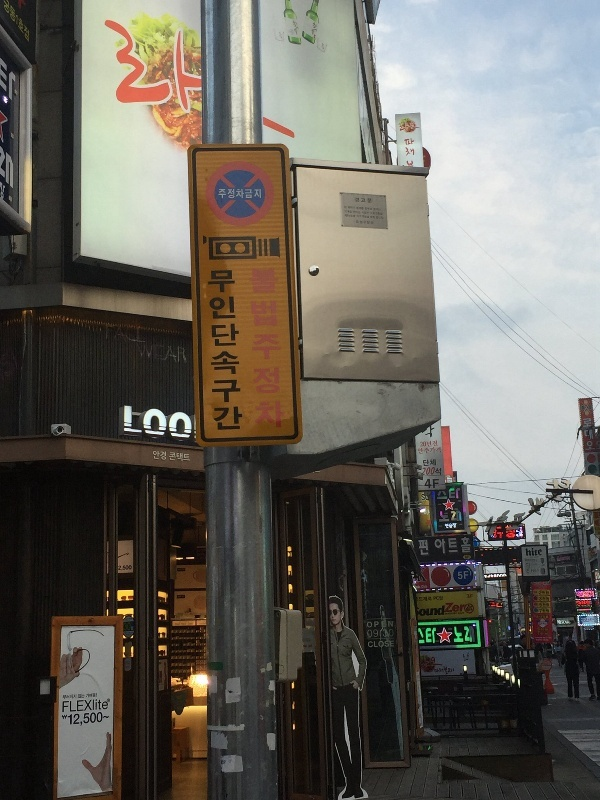text: (257, 263, 272, 437), (209, 267, 224, 439), (225, 267, 240, 439), (273, 263, 287, 437), (113, 19, 128, 115), (129, 19, 144, 115), (145, 19, 160, 115), (161, 19, 176, 115), (177, 19, 192, 115), (250, 263, 256, 437), (193, 19, 203, 115), (104, 19, 112, 115), (241, 267, 245, 439), (1, 147, 16, 190), (177, 405, 193, 441), (3, 61, 16, 104), (17, 4, 30, 46), (129, 405, 144, 441), (145, 405, 160, 441), (161, 405, 176, 441), (129, 322, 145, 350), (113, 322, 128, 350), (117, 405, 128, 441), (145, 341, 160, 365), (161, 341, 176, 365), (433, 536, 448, 557), (449, 536, 464, 557), (1, 181, 16, 201), (418, 536, 432, 557), (417, 627, 432, 645), (177, 341, 188, 365), (404, 137, 416, 159), (65, 711, 80, 728), (81, 711, 96, 728), (10, 4, 16, 46), (65, 699, 80, 714), (81, 699, 96, 714), (225, 187, 240, 201), (241, 187, 256, 201), (353, 206, 368, 220), (369, 206, 384, 220), (3, 1, 16, 17), (97, 711, 109, 728), (105, 322, 112, 350), (136, 341, 144, 365), (465, 626, 476, 643), (449, 509, 462, 523), (401, 121, 416, 133), (449, 486, 461, 501), (449, 602, 465, 613), (207, 267, 208, 439), (454, 626, 464, 643), (177, 451, 191, 463), (97, 699, 108, 714), (437, 486, 448, 501), (417, 605, 432, 616), (293, 21, 304, 35), (369, 640, 384, 650), (65, 692, 80, 701), (81, 692, 96, 701), (369, 629, 384, 638), (433, 605, 445, 616), (439, 509, 448, 523), (465, 536, 471, 557), (529, 548, 543, 557), (434, 667, 448, 676), (417, 595, 432, 603), (369, 621, 384, 629), (418, 447, 432, 455), (344, 206, 352, 220), (313, 22, 320, 38), (539, 591, 544, 613), (545, 591, 550, 613), (420, 440, 432, 449), (355, 196, 368, 204), (424, 476, 432, 489), (385, 640, 395, 650), (433, 476, 440, 489), (406, 160, 416, 169), (423, 467, 432, 477), (433, 467, 442, 477), (385, 629, 395, 638), (433, 595, 444, 603), (153, 450, 160, 462), (169, 451, 176, 463), (218, 187, 224, 201), (467, 593, 480, 599), (421, 494, 432, 501), (161, 450, 167, 462), (423, 458, 432, 466), (433, 627, 437, 645), (385, 621, 394, 629), (257, 187, 262, 201), (537, 627, 544, 637), (458, 570, 464, 581), (433, 447, 441, 455), (118, 564, 128, 570), (356, 220, 368, 225), (449, 667, 455, 676), (61, 711, 64, 728), (433, 440, 438, 449), (465, 570, 469, 581), (545, 627, 549, 637), (417, 121, 420, 133), (124, 622, 128, 631), (445, 602, 448, 613), (369, 196, 373, 204), (62, 699, 64, 714), (129, 622, 132, 631), (398, 121, 400, 133), (433, 458, 436, 466), (369, 220, 373, 225), (526, 548, 528, 557), (129, 564, 132, 570), (367, 640, 368, 650), (63, 692, 64, 701), (97, 692, 98, 701), (367, 629, 368, 638), (367, 621, 368, 629)
